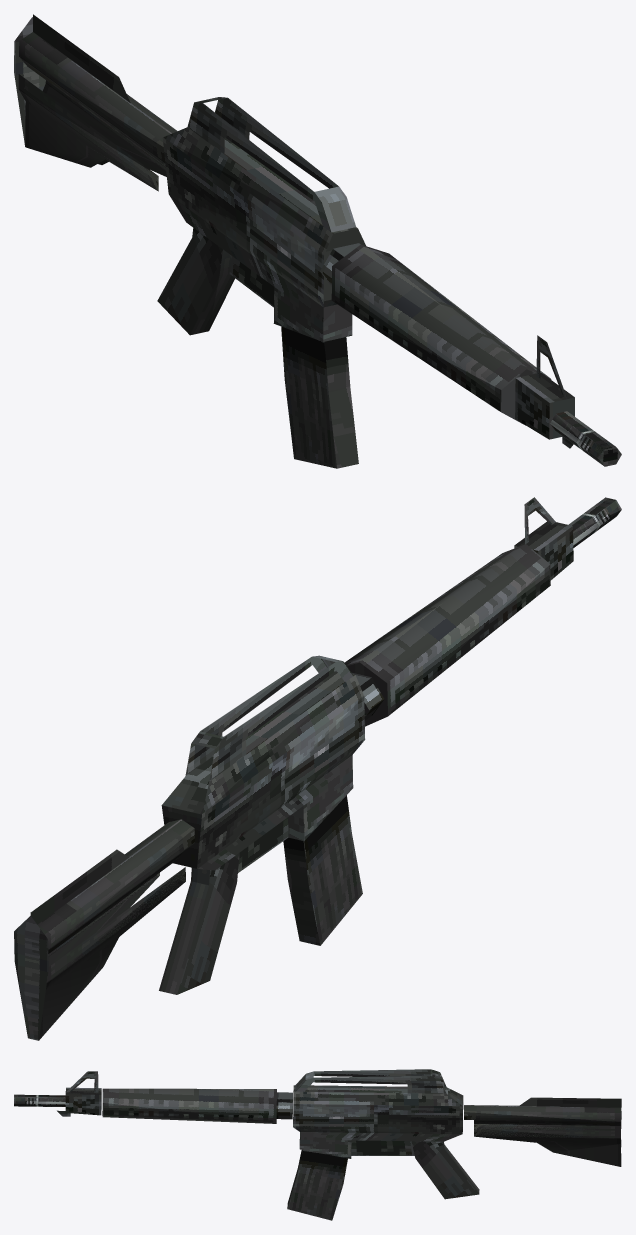
3 renders of one model, top to bottom at view 1: azimuth 30°, elevation 25°; view 2: azimuth 150°, elevation 25°; view 3: azimuth 270°, elevation 25°, orthographic. The views are drawn at different scales.
Parts seen in each view (by area): view 1: M4; view 2: M4; view 3: M4.
Boxes of the visible parts, left/top/right/bottom form: M4: left=14, top=14, right=621, bottom=468; M4: left=14, top=497, right=621, bottom=1040; M4: left=14, top=1069, right=621, bottom=1220.
Size of the model in its own units: 0.056 by 0.2676 by 0.9962.
Materials: 1 (1 with a texture image).
